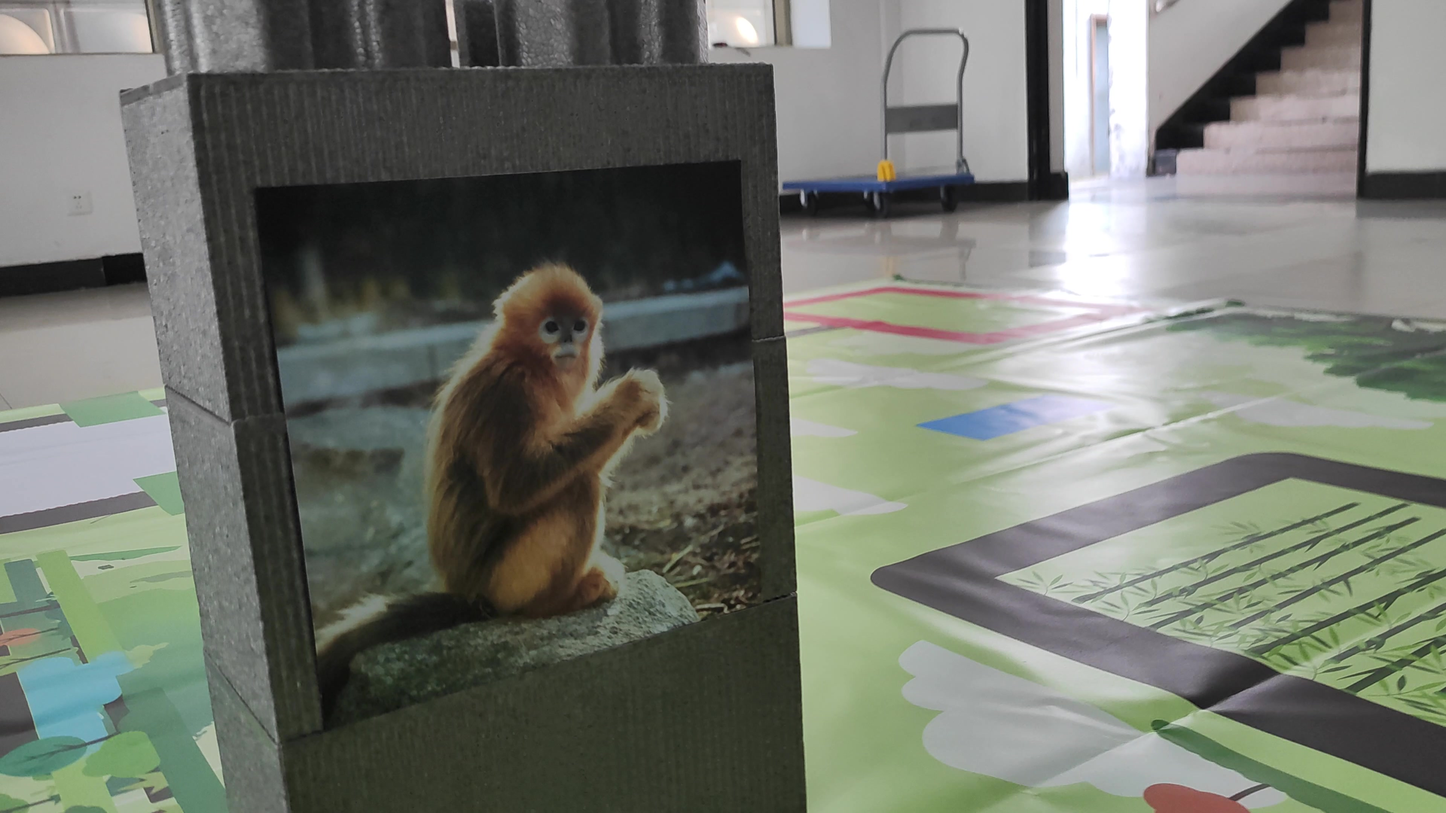monkey: (293, 222, 695, 666)
